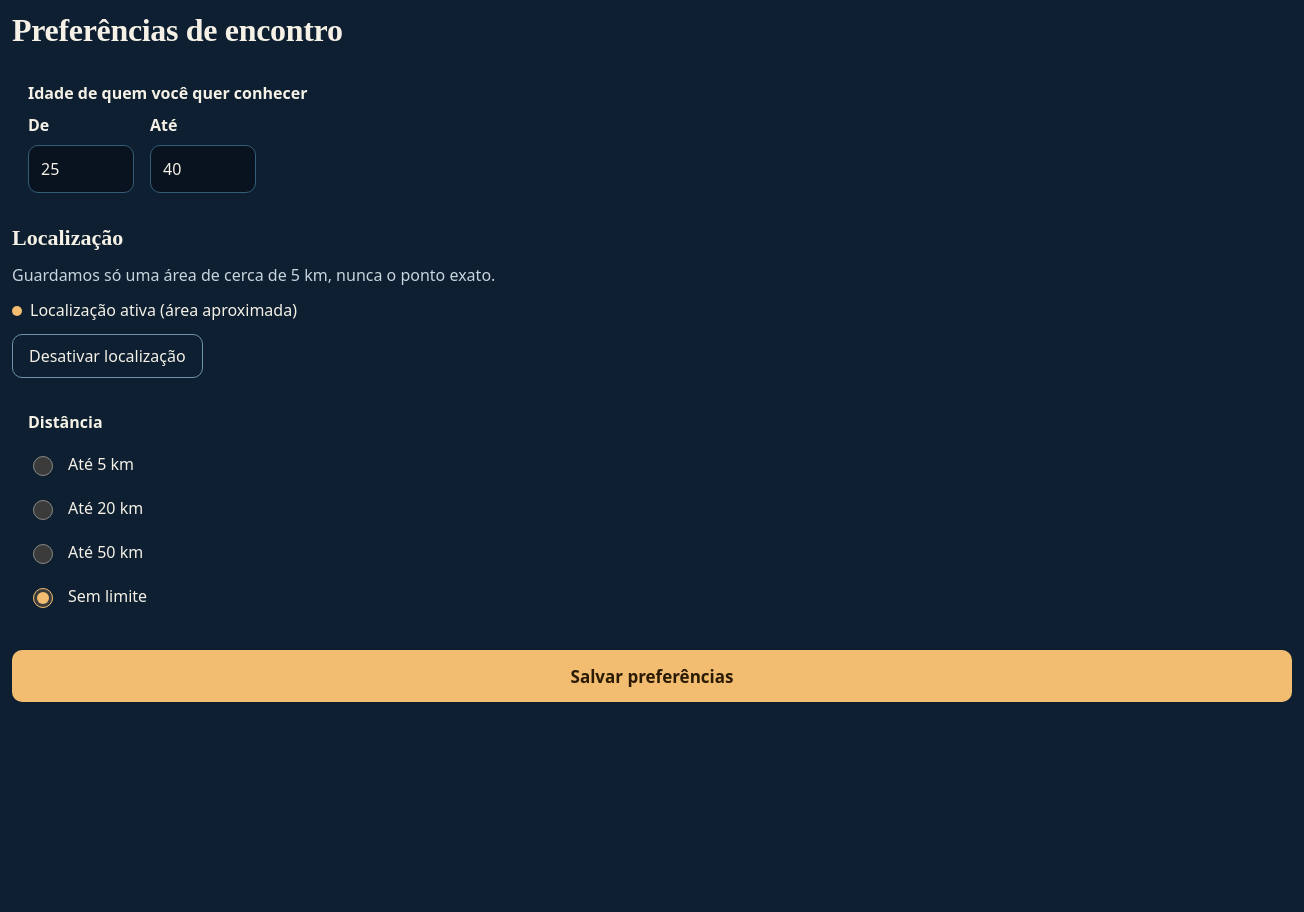
Test: Preferencias › comoUsarSoComRaio
Expected: the element "Como usar a distância" is not shown
Click the radio button labelled "Até 5 km": (43, 466) [33,456,53,476]
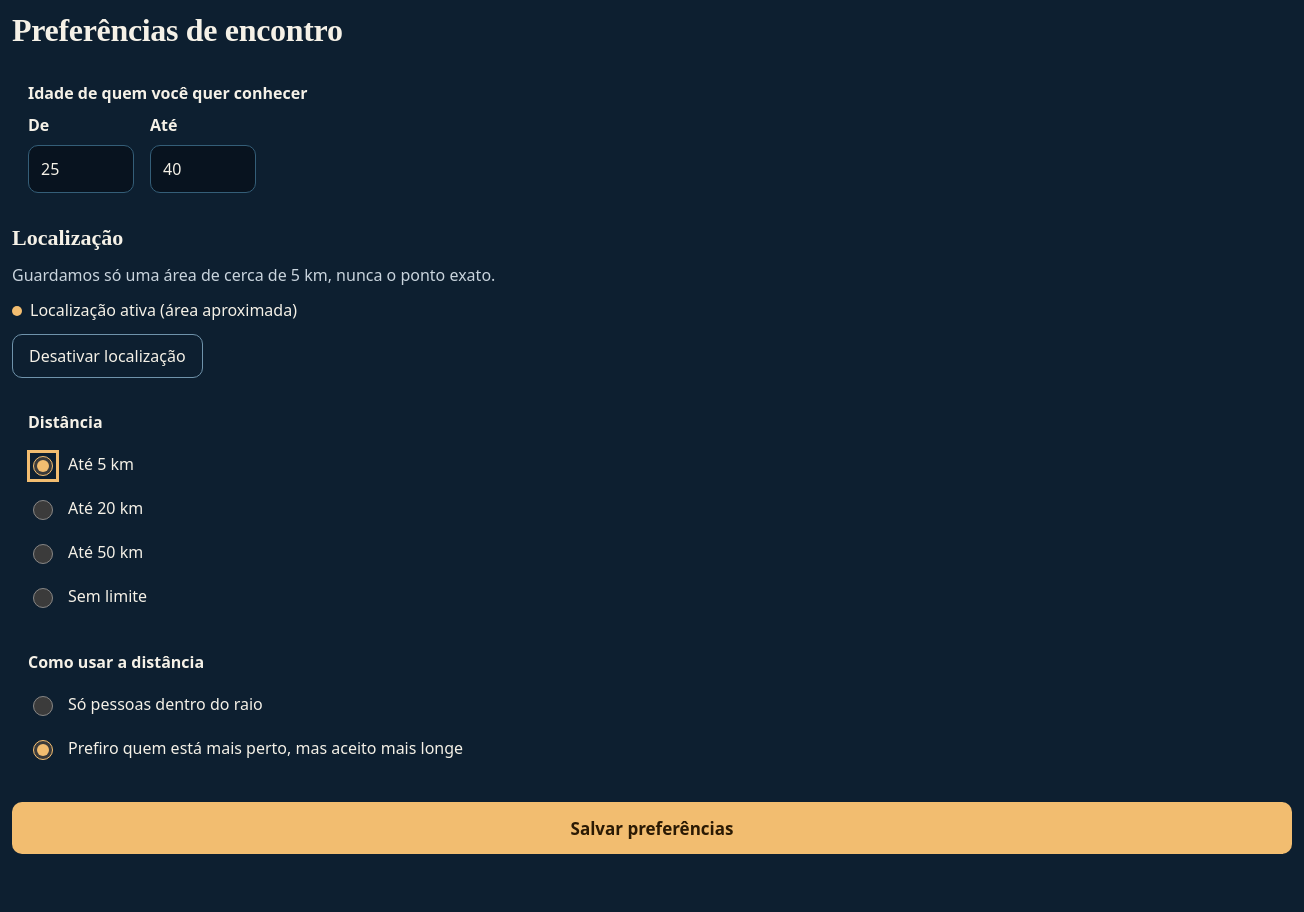
Result: the element "Como usar a distância" is shown at [28,651,463,760]
Result: the radio button labelled "Só pessoas dentro do raio" is shown at [33,696,53,716]
Result: the radio button labelled "Prefiro quem está mais perto, mas aceito mais longe" is shown at [33,740,53,760]
